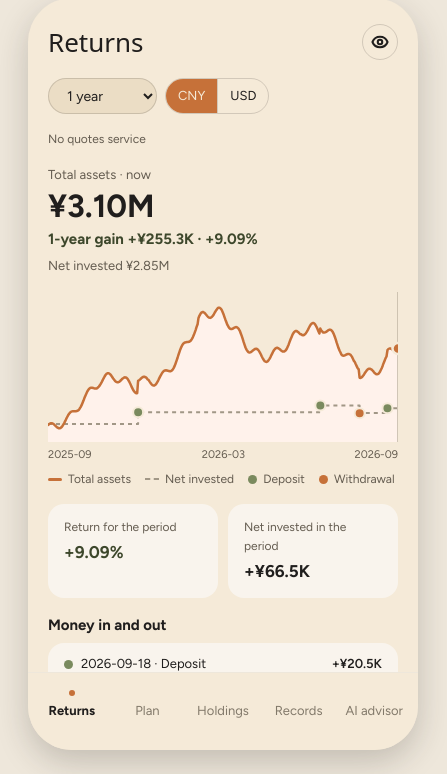
App shell › switches page and highlight when another tab is tapped
The width and height of the screenshot is (447, 774).
Click the button "Plan" at (147, 706), box [110,679,185,732]
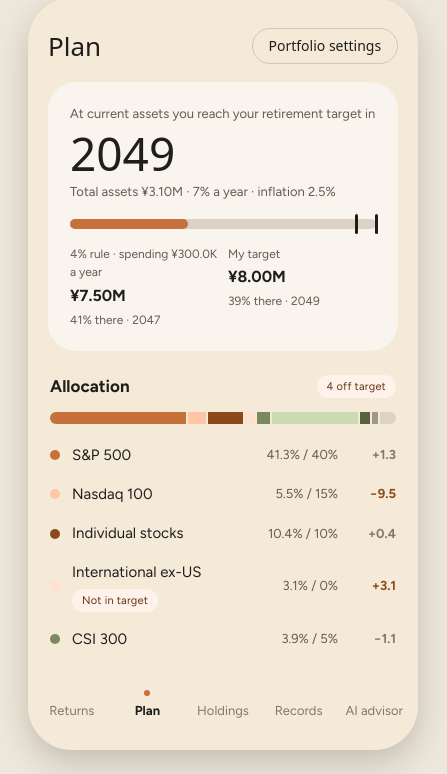
Check: the heading "Plan" is shown, box [48,26,101,66]
